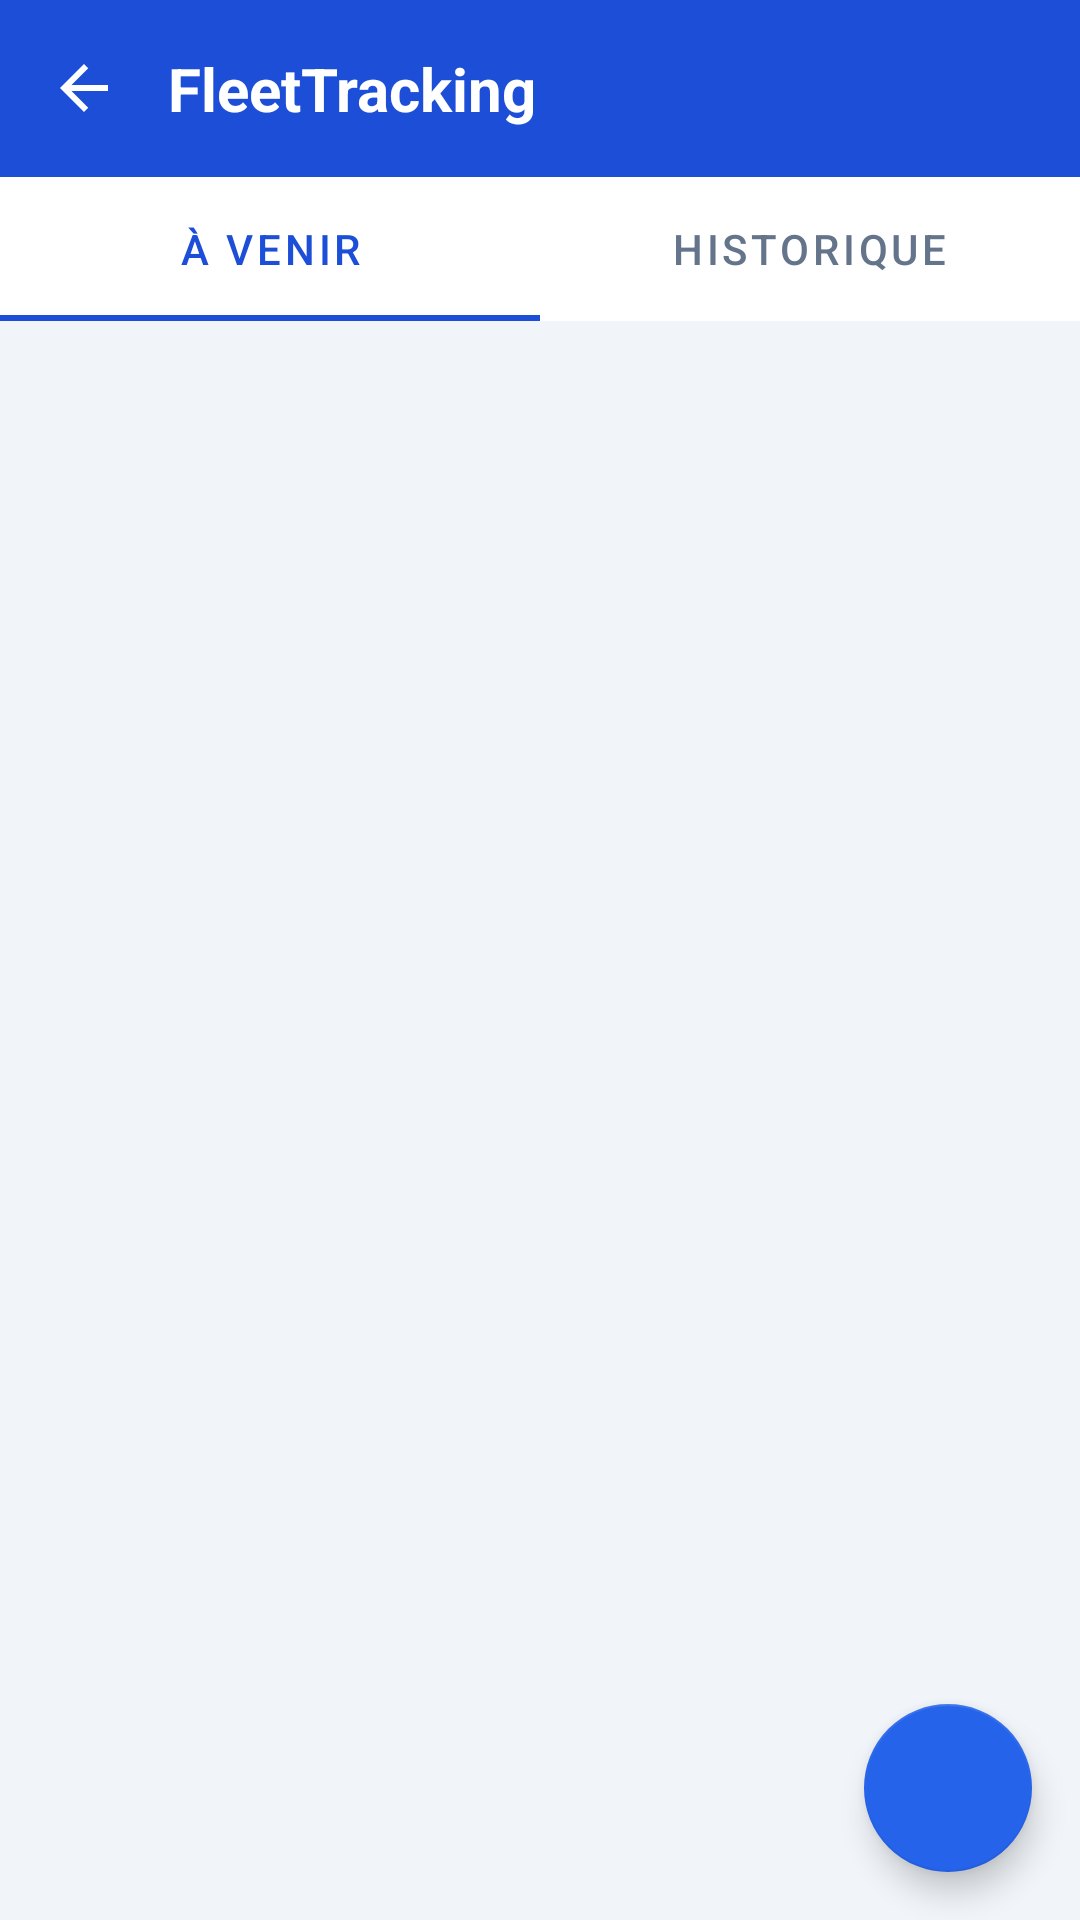

Where icons sit on this 1080 x 1920 app screen, as box(x1, y1, x2, y2):
Retour: box(60, 64, 108, 112)
